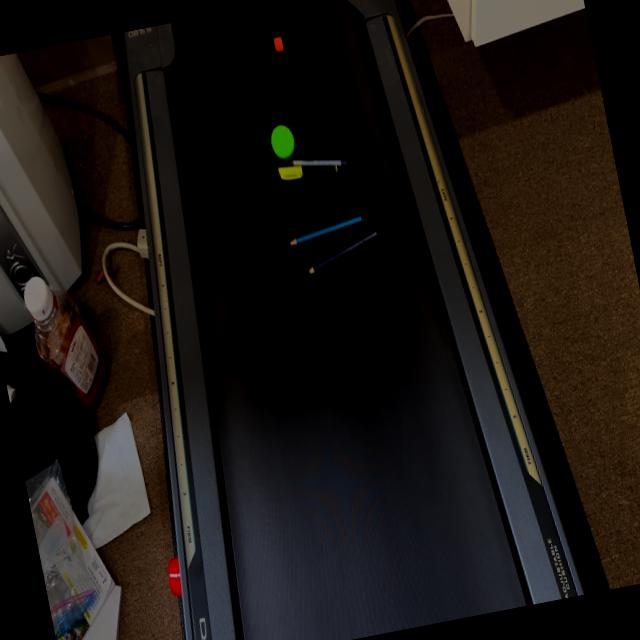Trash: (281, 207, 387, 285), (261, 110, 354, 192), (270, 30, 287, 59)
